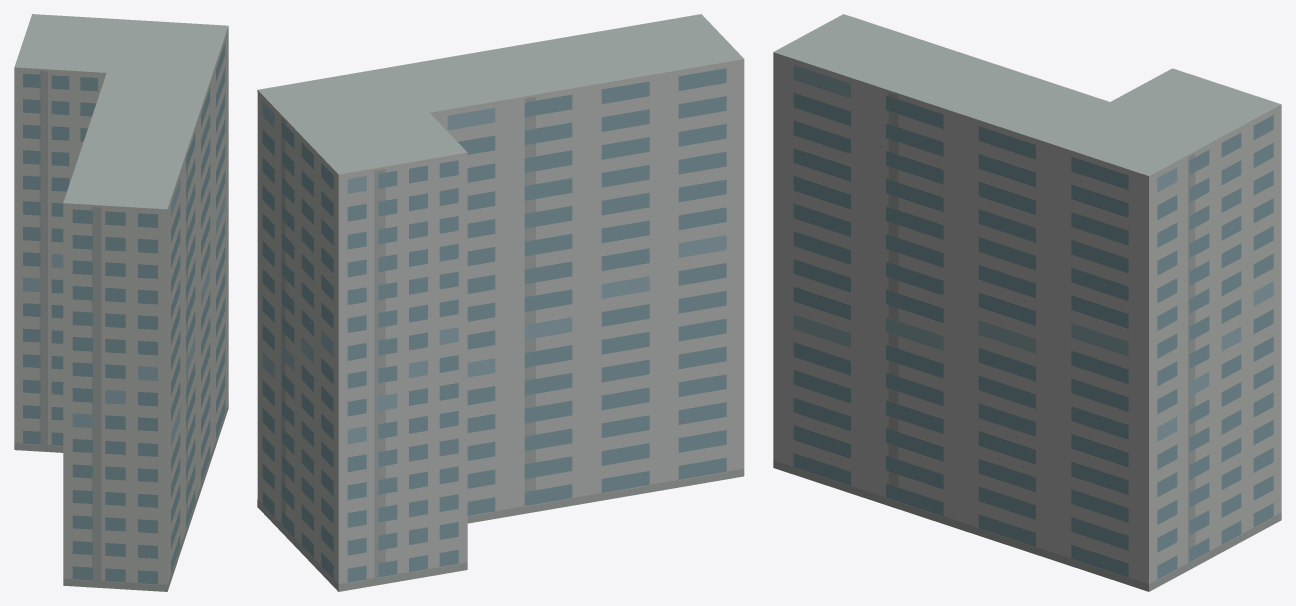
The model's file is residential-16e86053-8fea-4441-b734-570844b164b4.glb.
3 renders of one model, left to right at view 1: azimuth 30°, elevation 25°; view 2: azimuth 150°, elevation 25°; view 3: azimuth 270°, elevation 25°, orthographic. The views are drawn at different scales.
Parts seen in each view (by area): view 1: residential-16e86053-8fea-4441-b734-570844b164b4.tmp; view 2: residential-16e86053-8fea-4441-b734-570844b164b4.tmp; view 3: residential-16e86053-8fea-4441-b734-570844b164b4.tmp.
Part boxes in pixels (box(x1,y1,x2,y2)): residential-16e86053-8fea-4441-b734-570844b164b4.tmp: box(14, 14, 228, 591); residential-16e86053-8fea-4441-b734-570844b164b4.tmp: box(257, 14, 744, 591); residential-16e86053-8fea-4441-b734-570844b164b4.tmp: box(773, 14, 1281, 591).
Size of the model in its own units: 38.29 by 45.75 by 50.73.
